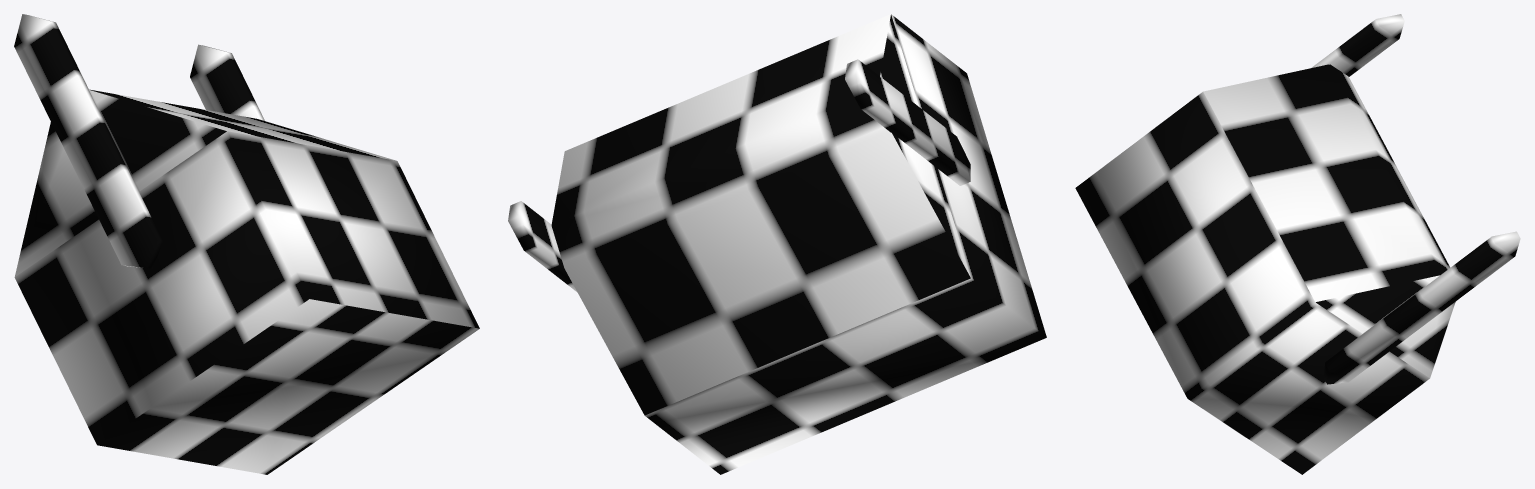
Rendered from initqu24.dae.
3 renders of one model, left to right at view 1: azimuth 30°, elevation 25°; view 2: azimuth 150°, elevation 25°; view 3: azimuth 270°, elevation 25°, orthographic. The views are drawn at different scales.
Visible parts, largest first — view 1: item; view 2: item; view 3: item.
Part boxes in pixels (box(x1,y1,x2,y2)): item: box(14, 14, 479, 474); item: box(508, 14, 1046, 474); item: box(1075, 14, 1520, 474).
Bounding box in the file's own units: 1.44 × 1.72 × 1.64.
Materials: 1 (1 with a texture image).
